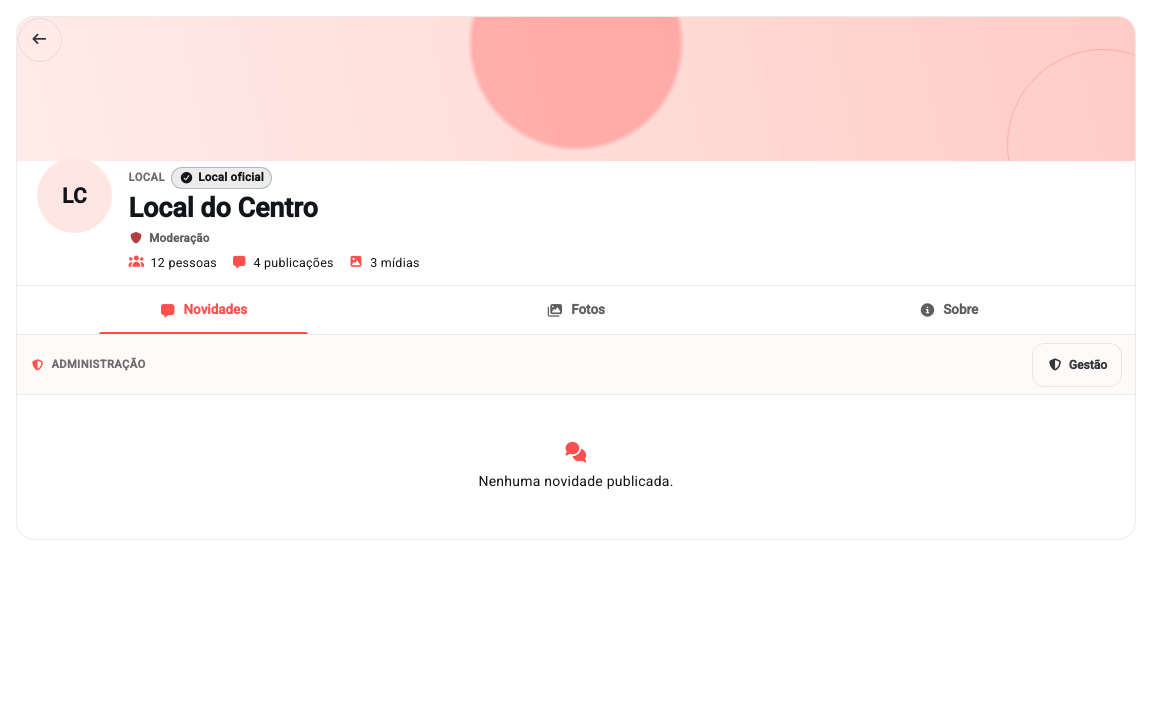
Scenario: CommunityPreviewPageComponent / Local › carrega a fila somente quando o backend libera Gestão
Click the button with id "community-tab-requests" at (1077, 365), box [1032,343,1122,387]
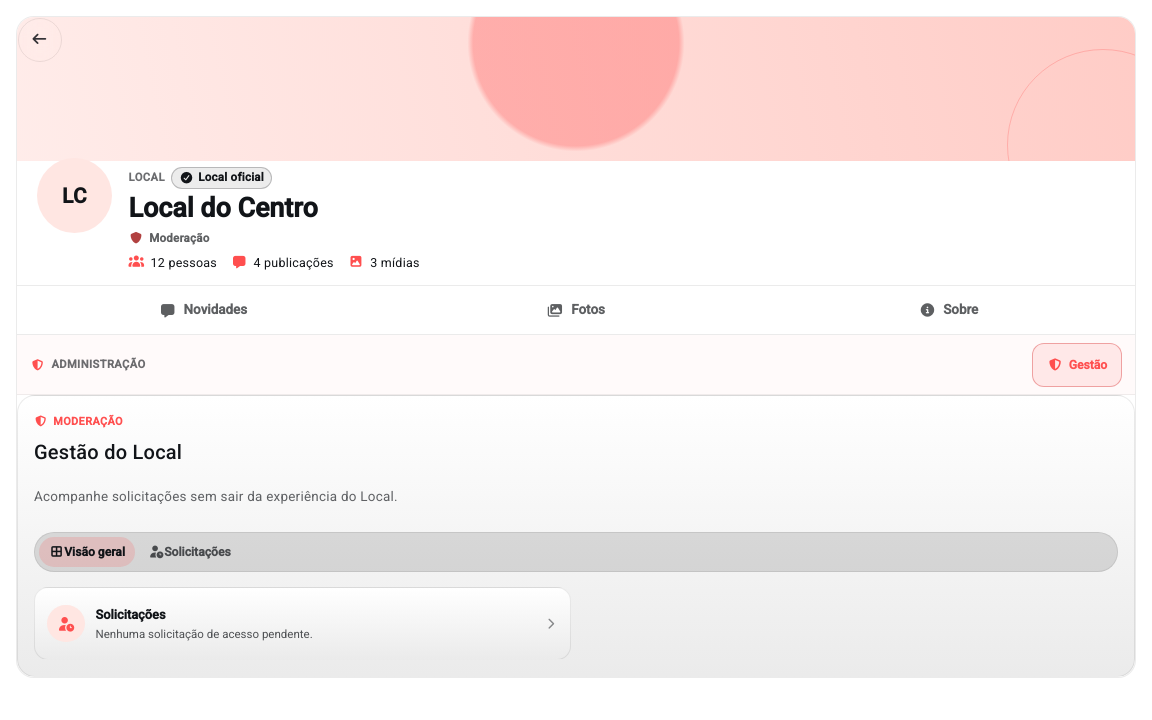
Expected: the text "Nenhuma solicitação de acesso pendente." is shown, [96,627,313,641]
